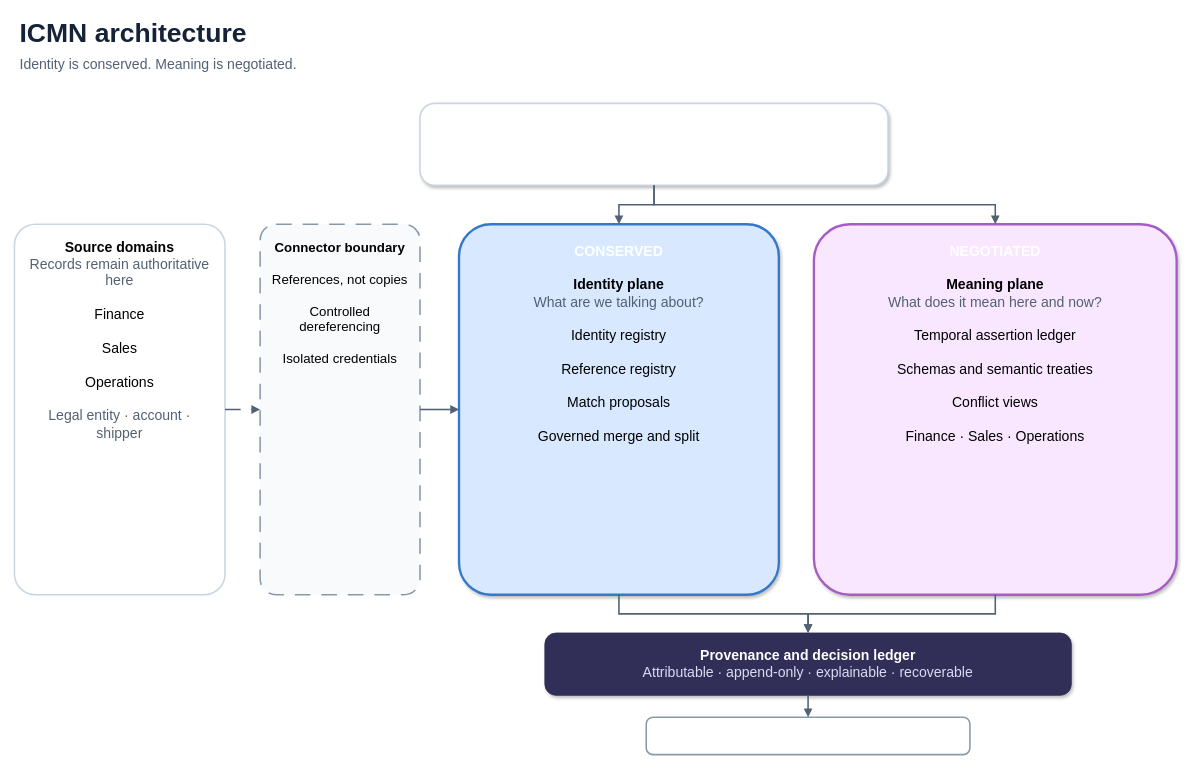
This 1196x768 diagram has some shape labels left out. The shapes that lost their labels are listed below. From the top down, each one's centre as x and y in pixels, then its label:
At point (654, 145): "Access and stewardship HTTP API · steward workbench · policy context".
At point (807, 735): "PostgreSQL · transactional outbox".
